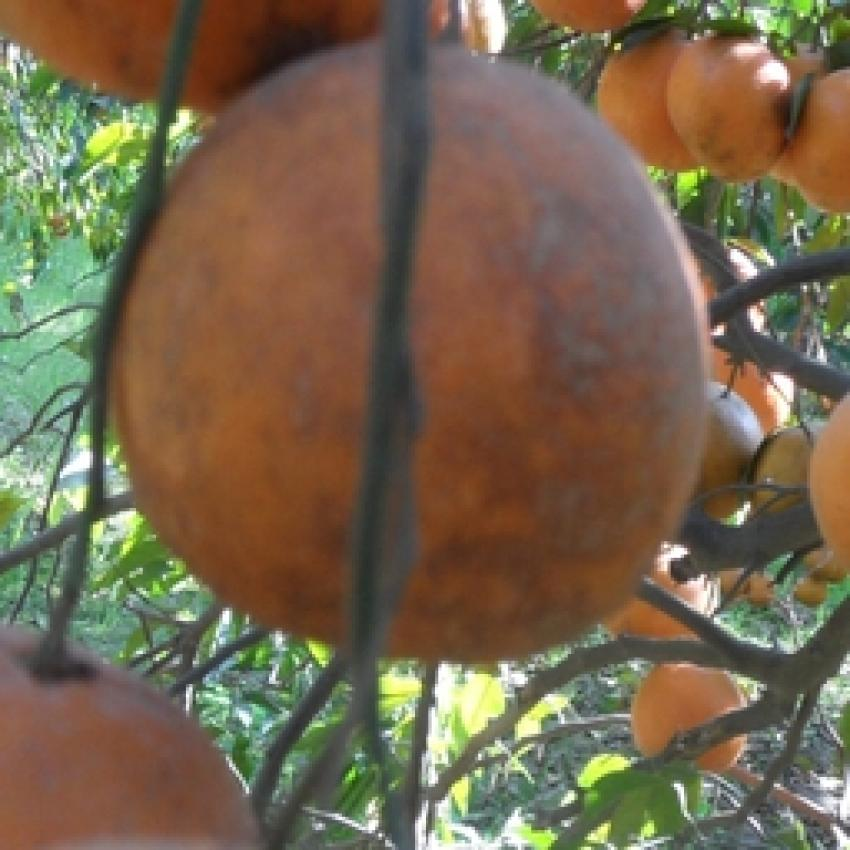Mal estado: (94, 35, 702, 678)
